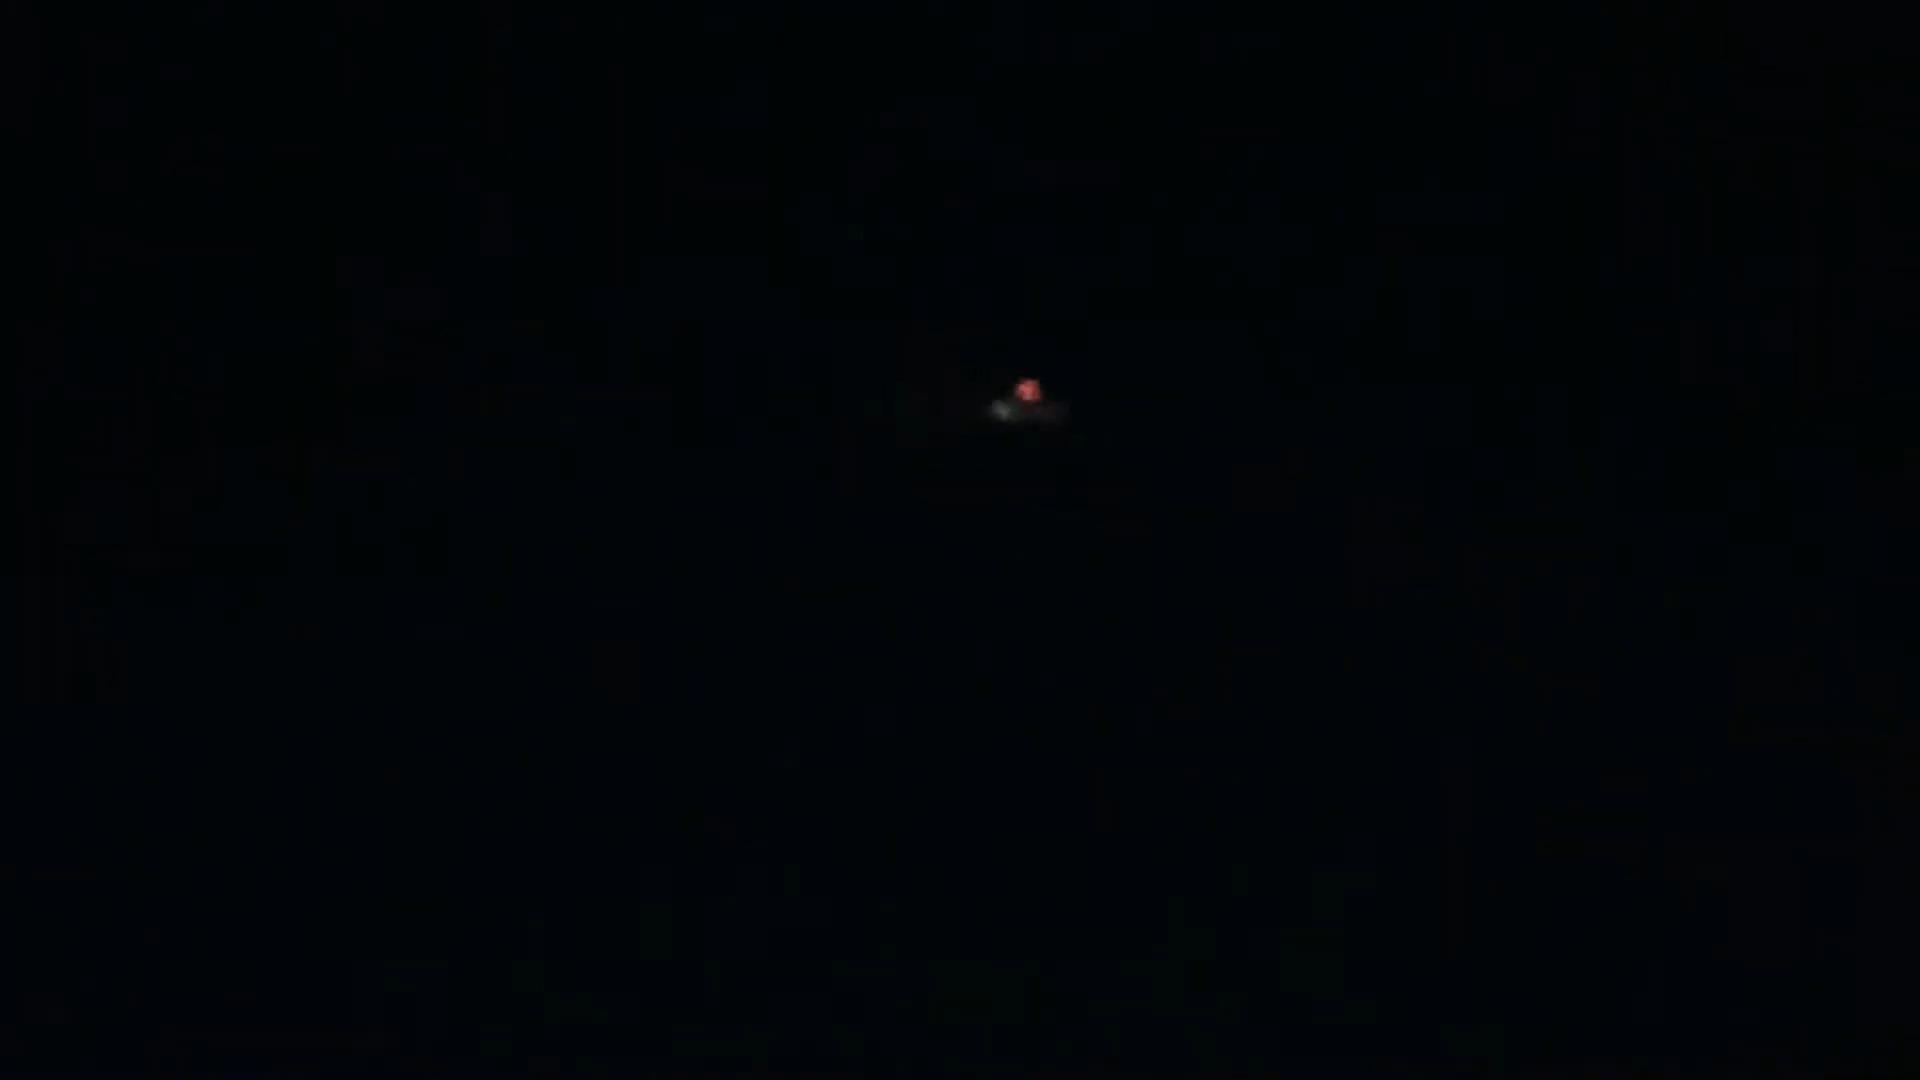Plane: (926, 353, 1130, 448)
